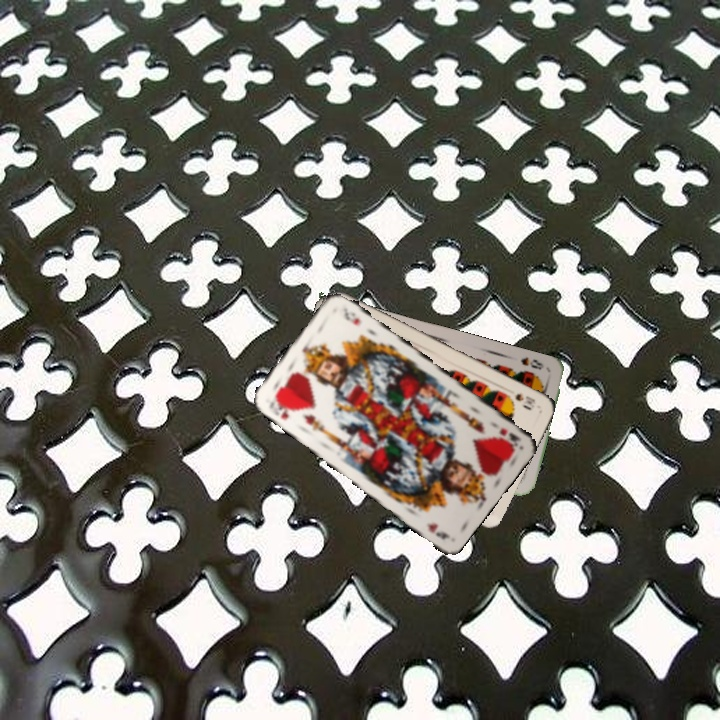HK: (265, 394, 297, 422), (495, 424, 524, 449)
S10: (502, 389, 539, 411)
S8: (516, 353, 546, 372)
